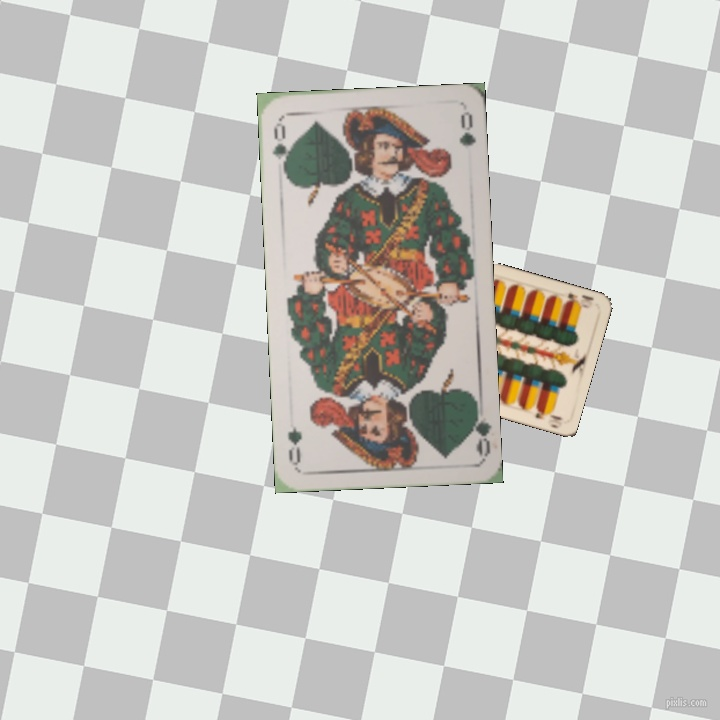E10: (561, 289, 596, 311)
GO: (465, 398, 493, 457), (268, 117, 293, 176)
